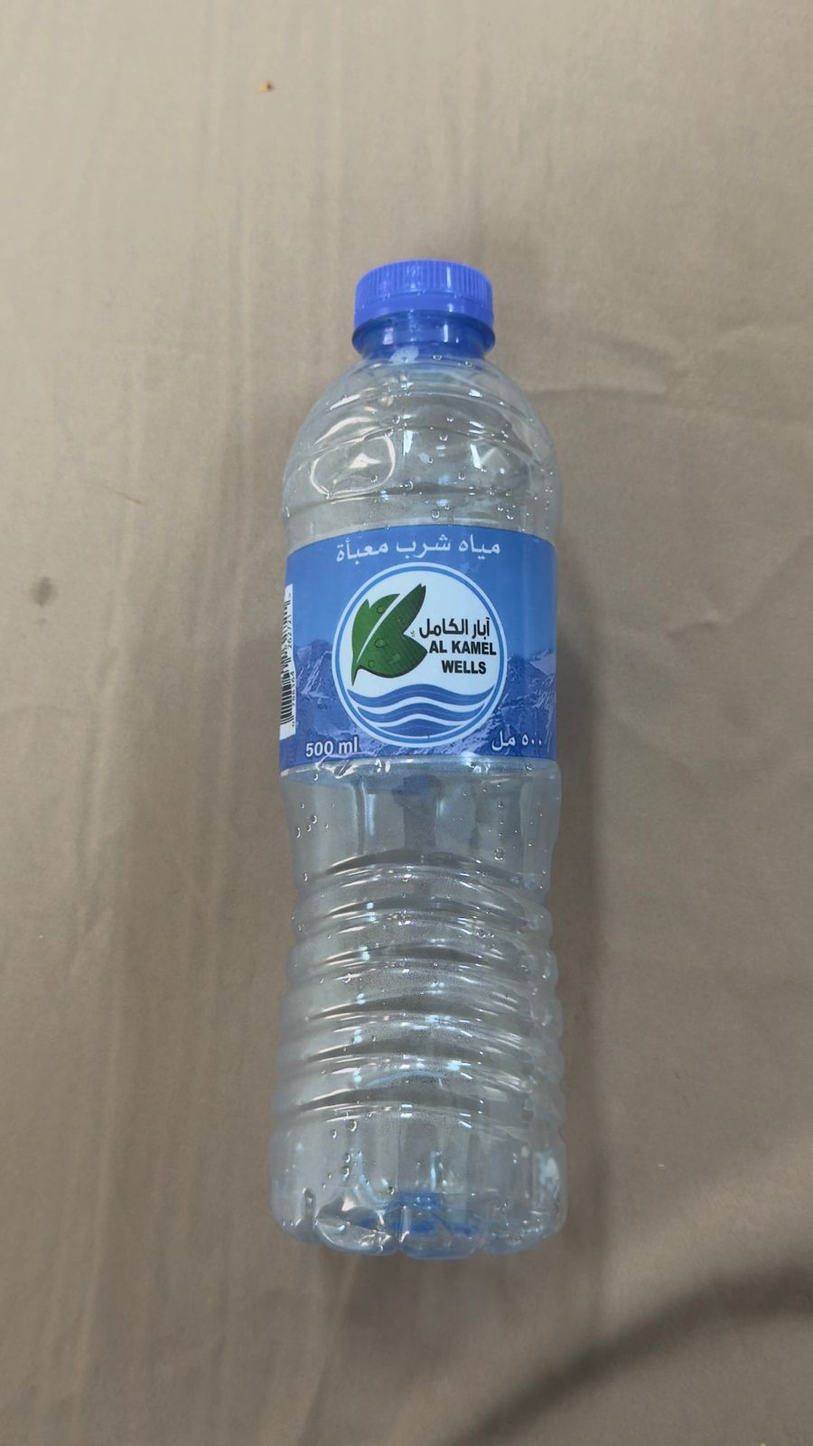plastic: (81, 178, 732, 1335)
